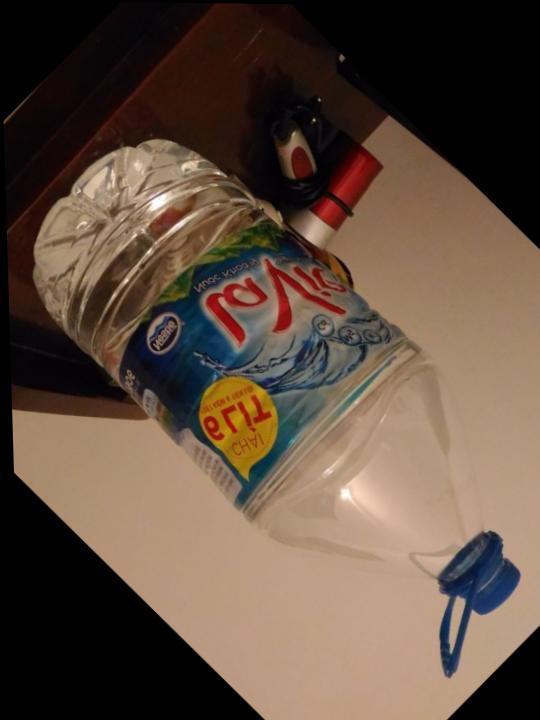plastic: (3, 98, 540, 706)
